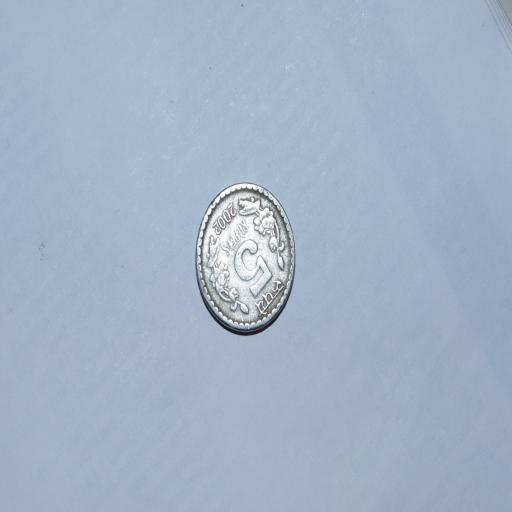rupee5: (190, 177, 300, 338)
